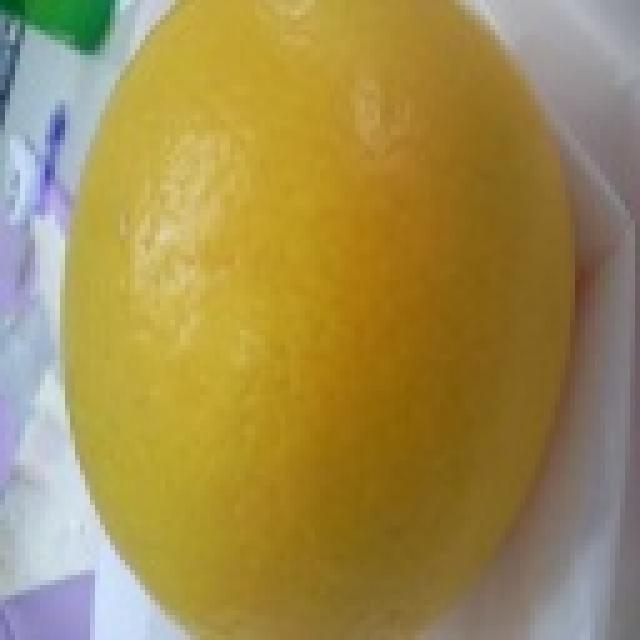lemon: (45, 0, 585, 640)
